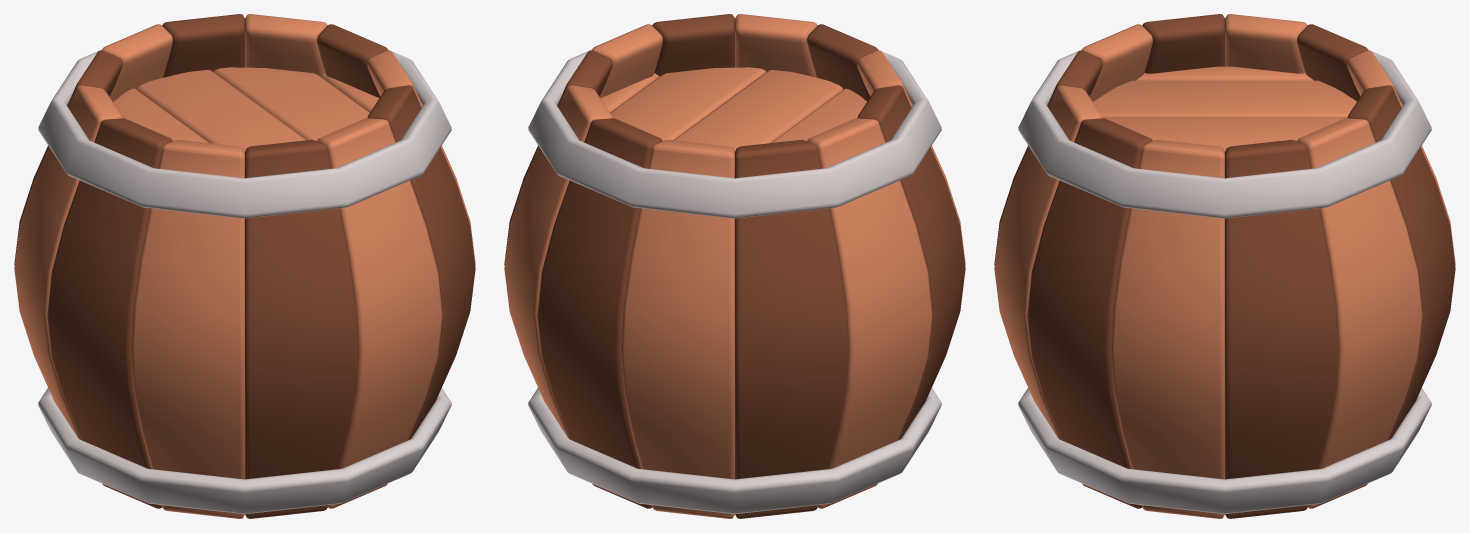
Rendered from barrel.fbx.
The picture shows the model from 3 angles, left to right: view 1: azimuth 30°, elevation 25°; view 2: azimuth 150°, elevation 25°; view 3: azimuth 270°, elevation 25°; orthographic projection.
Parts seen in each view (by area): view 1: Cube.030; view 2: Cube.030; view 3: Cube.030.
Part boxes in pixels (left/top/right/bottom): Cube.030: left=14, top=14, right=475, bottom=518; Cube.030: left=504, top=14, right=965, bottom=518; Cube.030: left=994, top=14, right=1455, bottom=518.
Size of the model in its own units: 226 by 199 by 227.
